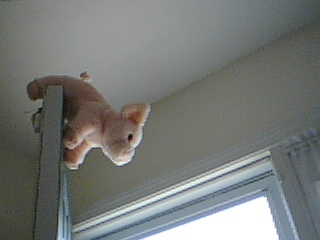piggy: (25, 67, 152, 172)
